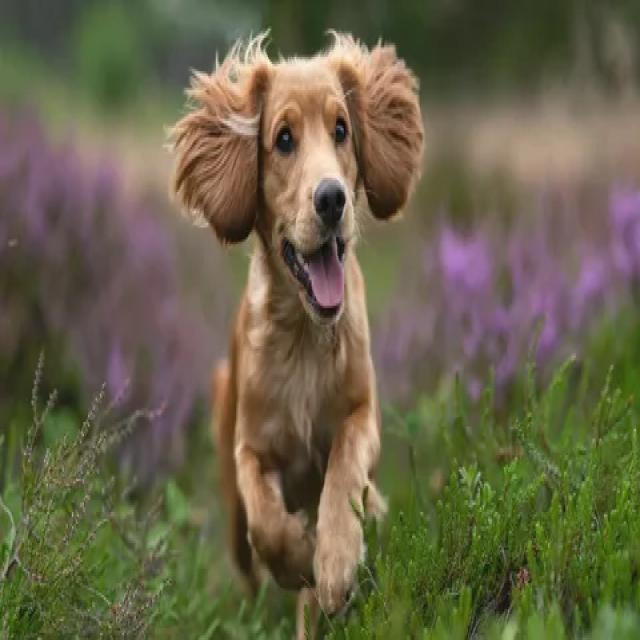Dog: (163, 26, 427, 617)
